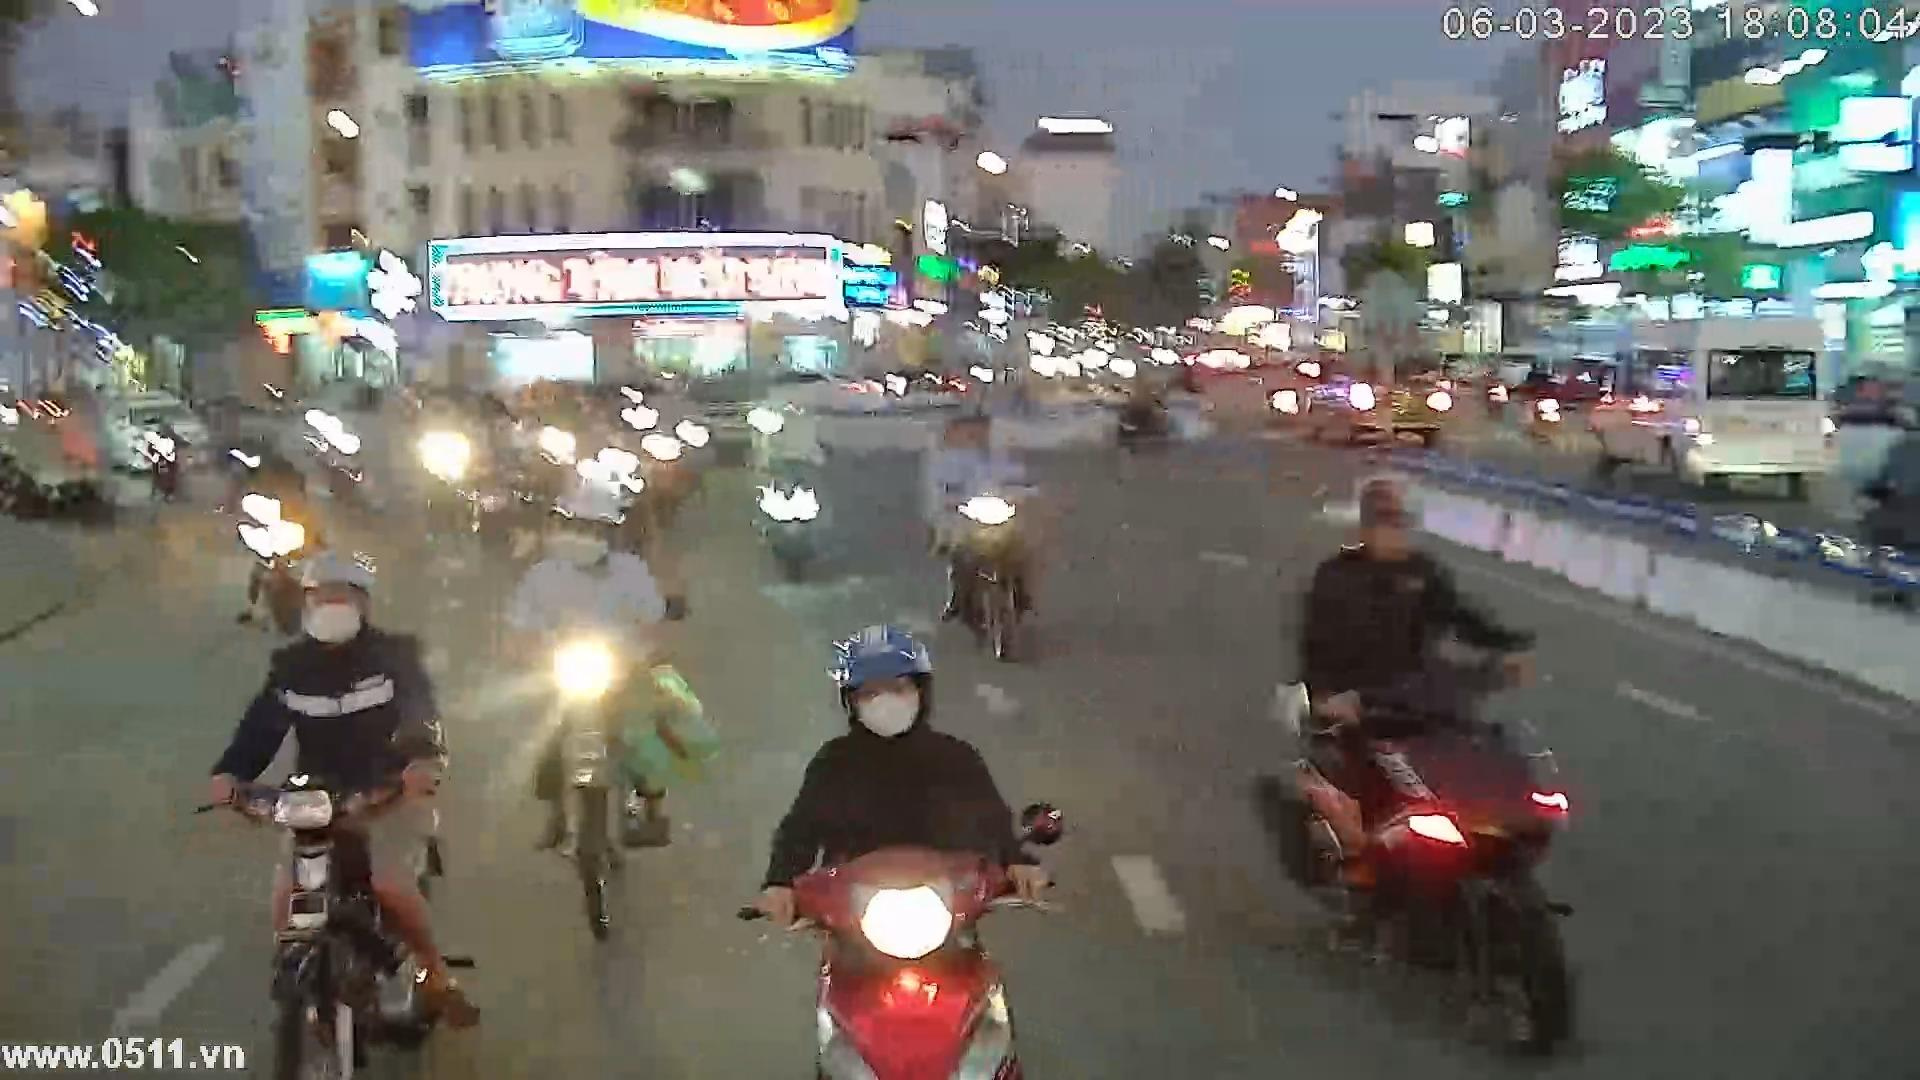bus: (1584, 313, 1834, 498)
motorcycle: (1246, 467, 1590, 1068), (191, 546, 484, 1080), (736, 625, 1064, 1080), (504, 480, 708, 944), (927, 402, 1044, 665), (232, 433, 318, 636), (744, 389, 828, 591)
